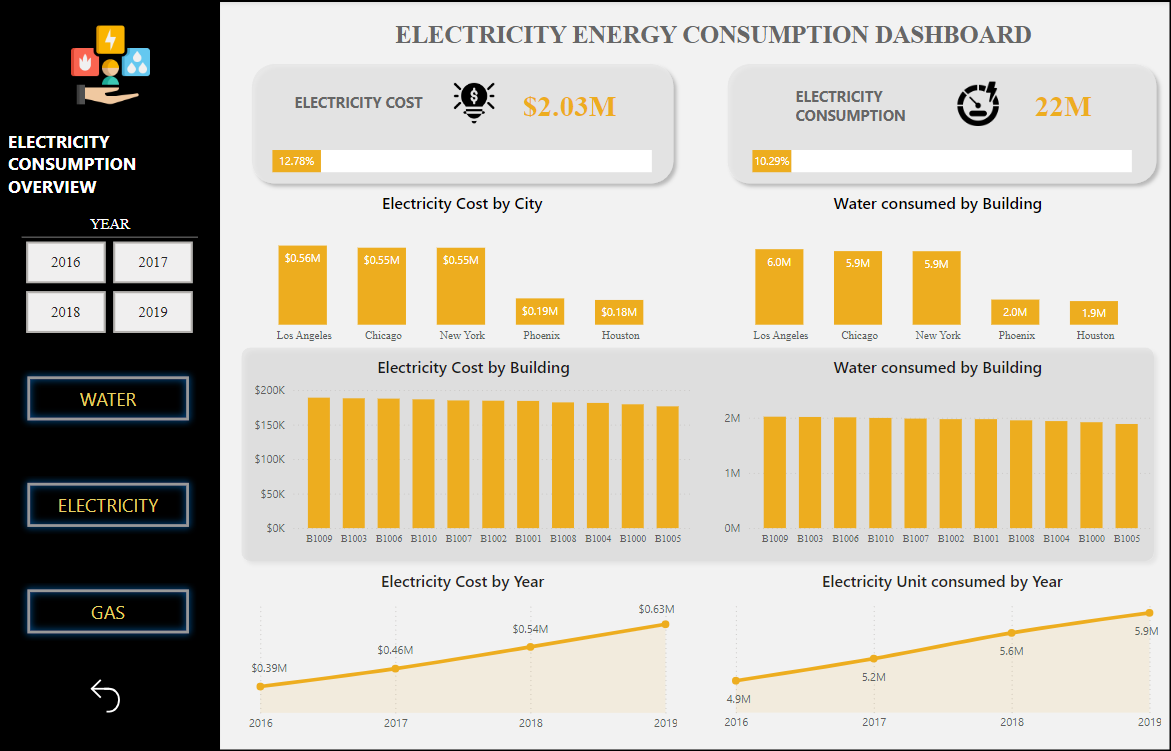

What the dashboard file says about the page in this screenshot:
{"tool":"powerbi","page":{"name":"ELECTRICITY","canvas":[1280,820],"ordinal":2},"visuals":[{"type":"shape","title":"Total Cost","box":[782.9,60.4,484.9,148.3],"z":0},{"type":"shape","title":"Total Cost","box":[265.1,60.4,476.6,148.3],"z":1000},{"type":"shape","box":[254.8,368.9,1010.7,250.6],"z":2000},{"type":"shape","box":[0,0,240.4,820],"z":3000},{"type":"image","box":[66.3,15.7,108.5,108.5],"z":4000},{"type":"areaChart","fields":{"Category":["Energy Consumptions.Year"],"Y":["All Measures.Electricity Cost"]},"box":[265.1,619.5,476.6,184.1],"z":5000},{"type":"areaChart","fields":{"Category":["Energy Consumptions.Year"],"Y":["All Measures.Electricity Unit consumed"]},"box":[782.4,619.5,485.9,183.8],"z":6000},{"type":"columnChart","fields":{"Category":["Energy Consumptions.Building"],"Y":["All Measures.Electricity Cost"]},"box":[272.9,387,487.3,214.4],"z":7000},{"type":"clusteredColumnChart","title":"Water consumed by Building","fields":{"Category":["Energy Consumptions.Building"],"Y":["All Measures.Electricity Unit consumed"]},"box":[782.4,387,476.1,214.4],"z":8000},{"type":"columnChart","fields":{"Category":["Building Master.City"],"Y":["All Measures.Electricity Cost"]},"box":[264.5,208.8,478.9,172],"z":9000},{"type":"clusteredColumnChart","title":"Water consumed by Building","fields":{"Category":["Building Master.City"],"Y":["All Measures.Electricity Unit consumed"]},"box":[782.4,208.8,476.1,172],"z":10000},{"type":"card","fields":{"Values":["All Measures.Electricity Cost"]},"box":[501.2,75.2,239.5,76.6],"z":11000},{"type":"card","fields":{"Values":["All Measures.Electricity Unit consumed"]},"box":[1037.2,75.2,239.5,76.6],"z":12000},{"type":"hundredPercentStackedBarChart","fields":{"Y":["All Measures.Electricity Cost","All Measures.Electricity Cost left"]},"box":[292.4,116.9,423.2,108.6],"z":13000},{"type":"hundredPercentStackedBarChart","fields":{"Y":["All Measures.Electricity Unit consumed","All Measures.Electricity Unit consumed left"]},"box":[814.4,116.9,423.2,108.6],"z":14000},{"type":"textbox","box":[316,94.7,185.2,45.9],"z":15000},{"type":"textbox","box":[861.8,87.7,211.6,57.1],"z":16000},{"type":"textbox","box":[425.7,16.3,731.9,61.6],"z":17000},{"type":"textbox","box":[5.4,135.9,235.5,90.6],"z":18000},{"type":"image","box":[488.7,84.9,54.3,54.3],"z":19000},{"type":"image","box":[1024.7,80.7,80.7,65.4],"z":20000},{"type":"advancedSlicerVisual","title":"YEAR","fields":{"Values":["Energy Consumptions.Year"]},"box":[23.7,235.3,192.1,133.7],"z":21000},{"type":"actionButton","box":[23.2,401.1,191.8,63.9],"z":22000},{"type":"actionButton","box":[23.2,516.9,191.8,63.9],"z":23000},{"type":"actionButton","box":[23.2,632.7,191.8,63.9],"z":24000},{"type":"actionButton","box":[91.9,732.3,64,48.7],"z":25000}]}

Visuals, with their boxes in screenshot pixels (x1, y1, x2, y2), scaled from the page's 1280x820 canvas onto the 1171x751 screenshot:
"Total Cost" shape: <region>716, 55, 1160, 191</region>
"Total Cost" shape: <region>243, 55, 679, 191</region>
shape: <region>233, 338, 1158, 567</region>
shape: <region>0, 0, 220, 750</region>
image: <region>61, 14, 160, 114</region>
areaChart - Energy Consumptions.Year x All Measures.Electricity Cost: <region>243, 567, 679, 736</region>
areaChart - Energy Consumptions.Year x All Measures.Electricity Unit consumed: <region>716, 567, 1160, 736</region>
columnChart - Energy Consumptions.Building x All Measures.Electricity Cost: <region>250, 354, 695, 551</region>
"Water consumed by Building" clusteredColumnChart: <region>716, 354, 1151, 551</region>
columnChart - Building Master.City x All Measures.Electricity Cost: <region>242, 191, 680, 349</region>
"Water consumed by Building" clusteredColumnChart: <region>716, 191, 1151, 349</region>
card - All Measures.Electricity Cost: <region>459, 69, 678, 139</region>
card - All Measures.Electricity Unit consumed: <region>949, 69, 1168, 139</region>
hundredPercentStackedBarChart - All Measures.Electricity Cost x All Measures.Electricity Cost left: <region>268, 107, 655, 207</region>
hundredPercentStackedBarChart - All Measures.Electricity Unit consumed x All Measures.Electricity Unit consumed left: <region>745, 107, 1132, 207</region>
textbox: <region>289, 87, 459, 129</region>
textbox: <region>788, 80, 982, 133</region>
textbox: <region>389, 15, 1059, 71</region>
textbox: <region>5, 124, 220, 207</region>
image: <region>447, 78, 497, 127</region>
image: <region>937, 74, 1011, 134</region>
"YEAR" advancedSlicerVisual: <region>22, 216, 197, 338</region>
actionButton: <region>21, 367, 197, 426</region>
actionButton: <region>21, 473, 197, 532</region>
actionButton: <region>21, 579, 197, 638</region>
actionButton: <region>84, 671, 143, 715</region>
